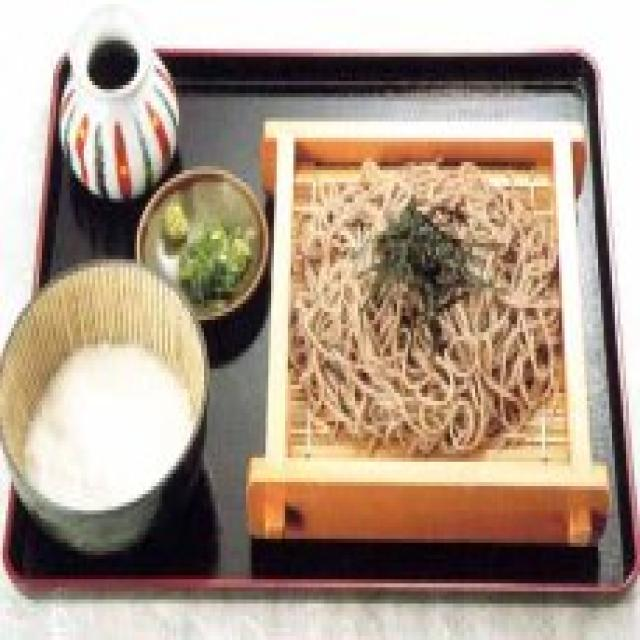面条主食: (240, 77, 615, 587)
